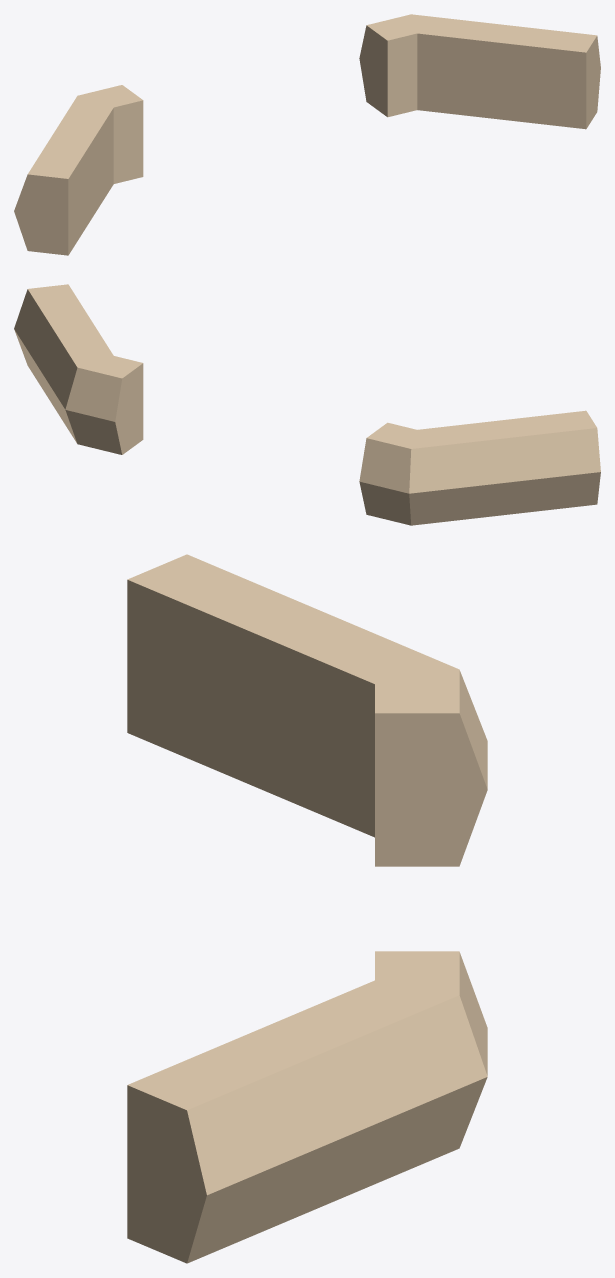
The model's file is Tower_Wall_Tall_Doorway_Base.glb.
3 views of the same model, one above another, from view 1: azimuth 30°, elevation 25°; view 2: azimuth 150°, elevation 25°; view 3: azimuth 270°, elevation 25° (orthographic). The views are drawn at different scales.
Visible parts, largest first — view 1: Tower_Wall_Tall_Doorway_Base; view 2: Tower_Wall_Tall_Doorway_Base; view 3: Tower_Wall_Tall_Doorway_Base.
Part boxes in pixels (x1,y1,x2,y2): Tower_Wall_Tall_Doorway_Base: (14,14,600,255); Tower_Wall_Tall_Doorway_Base: (14,284,600,525); Tower_Wall_Tall_Doorway_Base: (127,554,487,1263).
Bounding box in the file's own units: 1.08 × 0.135 × 0.2877.
